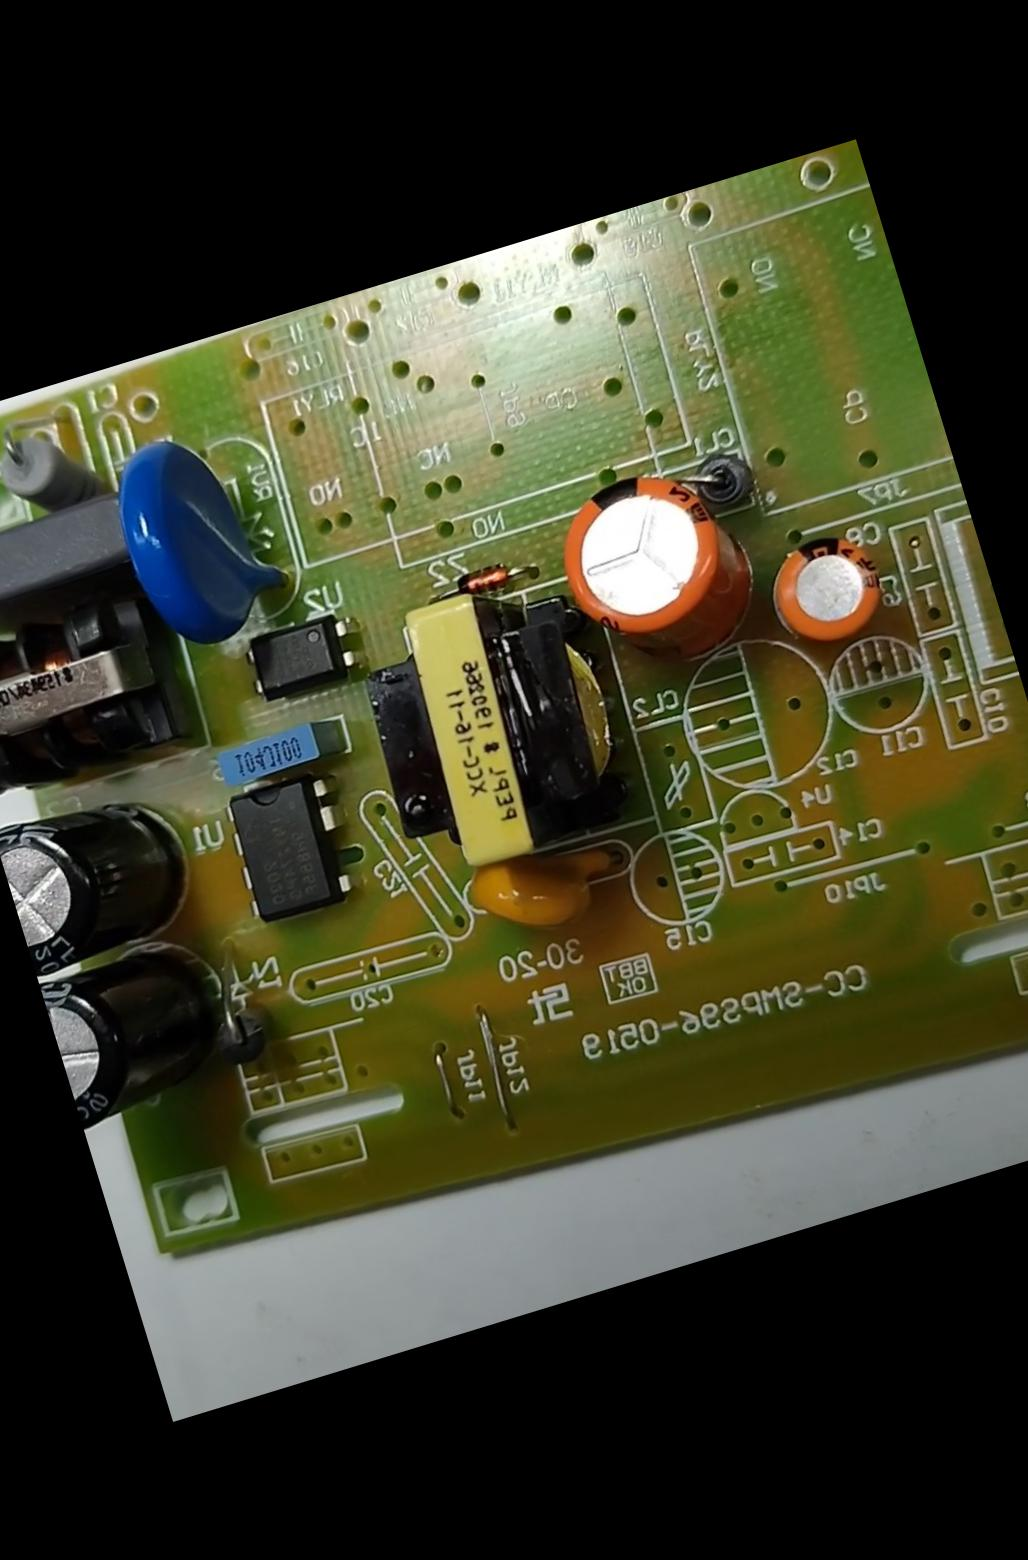Cap1: (544, 450, 771, 673)
Cap2: (755, 521, 896, 654)
Cap3: (0, 773, 213, 980)
Cap4: (39, 935, 246, 1131), (0, 415, 96, 518)
MOSFET: (213, 760, 364, 927)
Mov: (96, 413, 298, 661)
Transformer: (345, 567, 648, 886), (0, 580, 190, 810)
